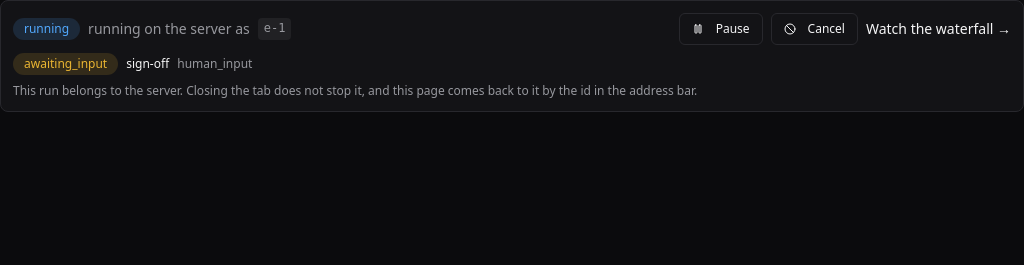
Test: answering a step that is waiting on a person › types the answer to a question that offered none
Click the button "awaiting_input sign-off human_input".
click(66, 64)  # box 13,53 -> 1011,75
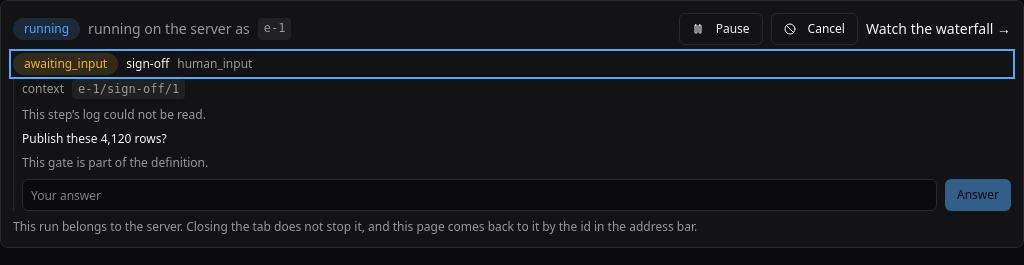
Check: the field with placeholder "Your answer" is shown, box 22,179 -> 937,211
